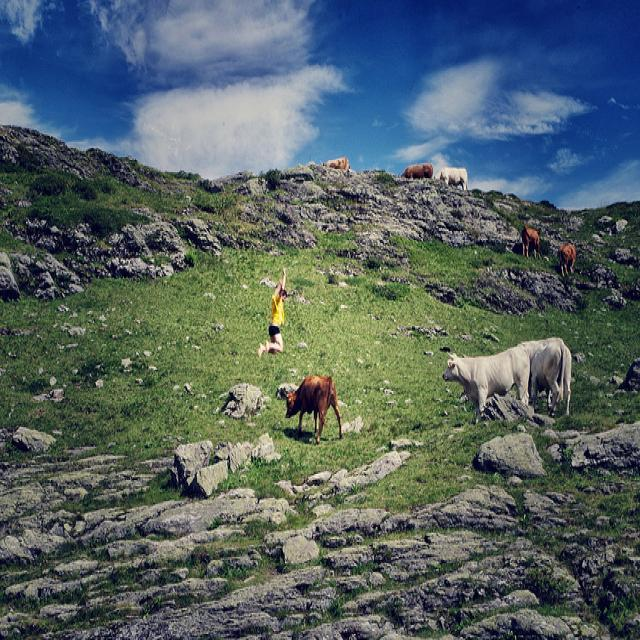cow: (440, 344, 530, 421), (284, 372, 342, 446), (521, 337, 570, 415), (521, 223, 541, 255), (556, 242, 574, 275), (319, 154, 349, 168)
